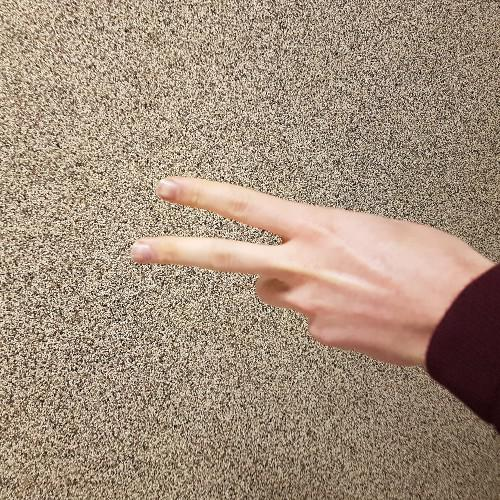scissors: (124, 163, 460, 374)
